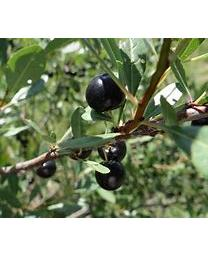cherry: (86, 73, 126, 111), (95, 159, 125, 191), (34, 159, 56, 177)
